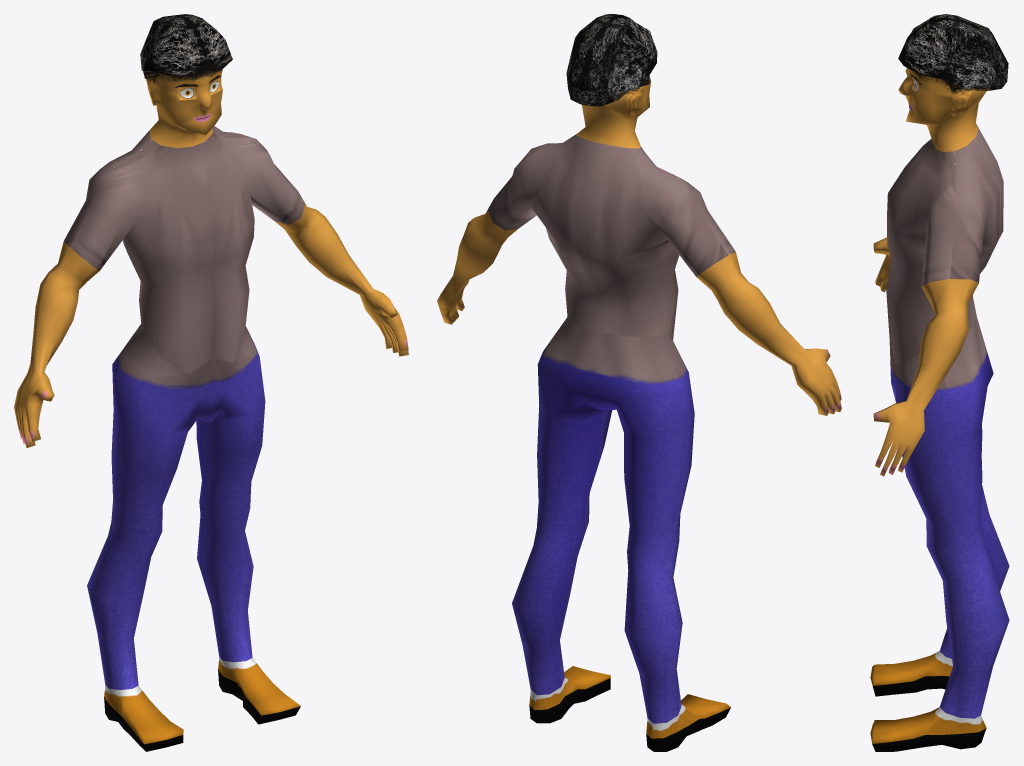
The model's file is Customer4FINISHED.FBX.
3 views of the same model, side by side, from view 1: azimuth 30°, elevation 25°; view 2: azimuth 150°, elevation 25°; view 3: azimuth 270°, elevation 25° (orthographic). The views are drawn at different scales.
Visible parts, largest first — view 1: Torso; view 2: Torso; view 3: Torso.
Boxes of the visible parts, <box> form: Torso: <box>14,14,408,751</box>; Torso: <box>437,14,841,751</box>; Torso: <box>870,14,1009,751</box>.
Bounding box in the file's own units: 170 × 293 × 52.94.
Materials: 1 (1 with a texture image).
